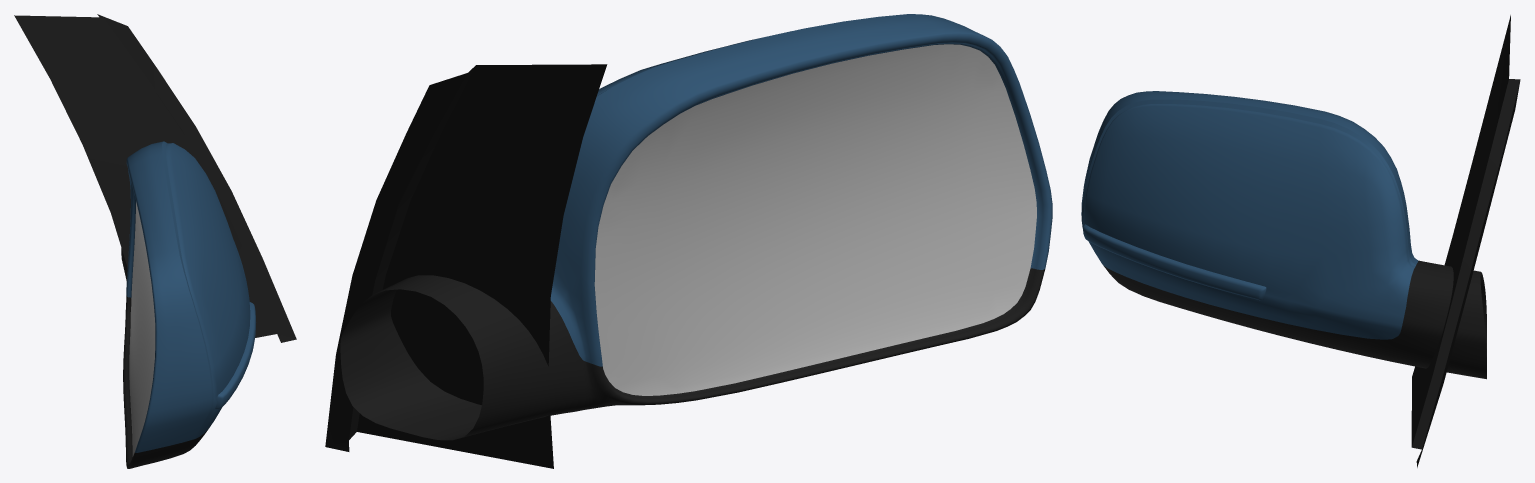
3 renders of one model, left to right at view 1: azimuth 30°, elevation 25°; view 2: azimuth 150°, elevation 25°; view 3: azimuth 270°, elevation 25°, orthographic. The views are drawn at different scales.
Visible parts, largest first — view 1: Y191_13_281I_R_Y191_13_281I_R_1_DaS, Y191_13_281I_R_3_D_Y191_13_281I_R, Y191_13_281I_R_Y191_13_281I_R_2_DTaSI, Y191_13_281I_R_Y191_13_281I_R_1_DaS_E; view 2: Y191_13_281I_R_Y191_13_281I_R_2_DTaSI, Y191_13_281I_R_3_D_Y191_13_281I_R, Y191_13_281I_R_Y191_13_281I_R_1_DaS; view 3: Y191_13_281I_R_Y191_13_281I_R_1_DaS, Y191_13_281I_R_3_D_Y191_13_281I_R, Y191_13_281I_R_Y191_13_281I_R_1_DaS_E.
Part boxes in pixels (x1,y1,x2,y2): Y191_13_281I_R_Y191_13_281I_R_1_DaS: [126, 141, 250, 452]; Y191_13_281I_R_3_D_Y191_13_281I_R: [14, 14, 296, 468]; Y191_13_281I_R_Y191_13_281I_R_2_DTaSI: [129, 202, 155, 456]; Y191_13_281I_R_Y191_13_281I_R_1_DaS_E: [162, 141, 256, 438]; Y191_13_281I_R_Y191_13_281I_R_2_DTaSI: [594, 44, 1036, 395]; Y191_13_281I_R_3_D_Y191_13_281I_R: [325, 64, 1045, 468]; Y191_13_281I_R_Y191_13_281I_R_1_DaS: [550, 14, 1052, 366]; Y191_13_281I_R_Y191_13_281I_R_1_DaS: [1081, 91, 1418, 339]; Y191_13_281I_R_3_D_Y191_13_281I_R: [1103, 15, 1520, 467]; Y191_13_281I_R_Y191_13_281I_R_1_DaS_E: [1081, 99, 1415, 300].
Size of the model in its own units: 21.23 by 21.97 by 25.58.
